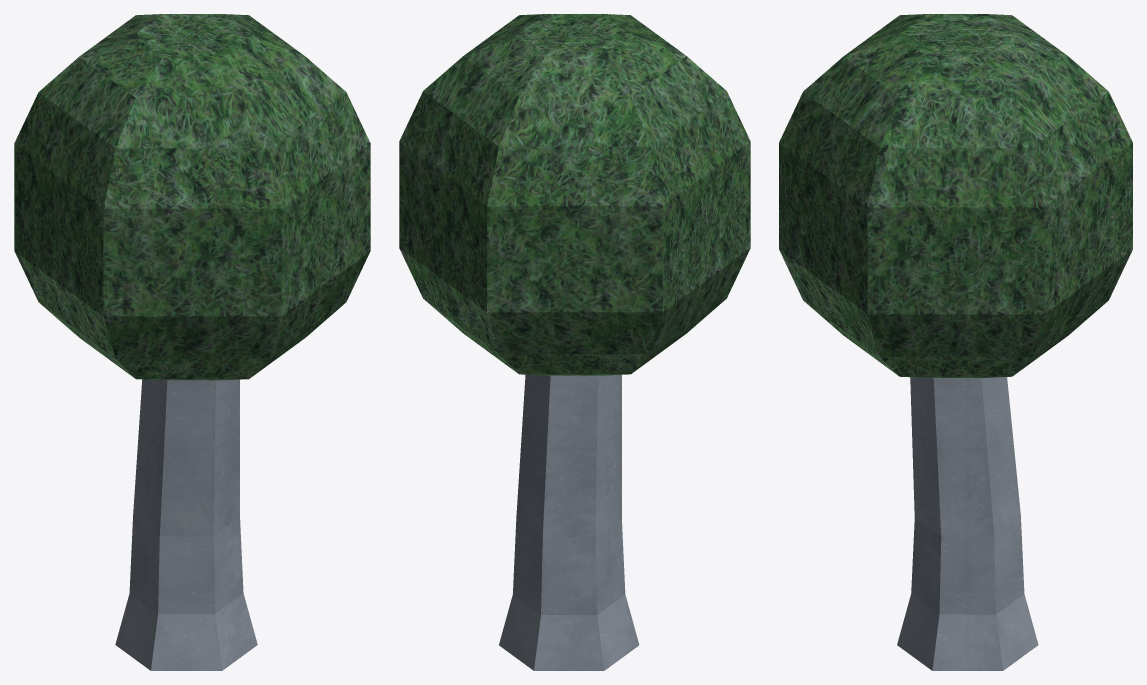
Rendered from Oak_Tree_1.fbx.
3 views of the same model, side by side, from view 1: azimuth 30°, elevation 25°; view 2: azimuth 150°, elevation 25°; view 3: azimuth 270°, elevation 25° (orthographic).
Visible parts, largest first — view 1: Tree_Oak_1; view 2: Tree_Oak_1; view 3: Tree_Oak_1.
Boxes of the visible parts, x1,y1,x2,y2 form: Tree_Oak_1: (14,14,370,670); Tree_Oak_1: (399,14,750,670); Tree_Oak_1: (779,14,1132,670).
Size of the model in its own units: 12.99 by 28.5 by 15.
